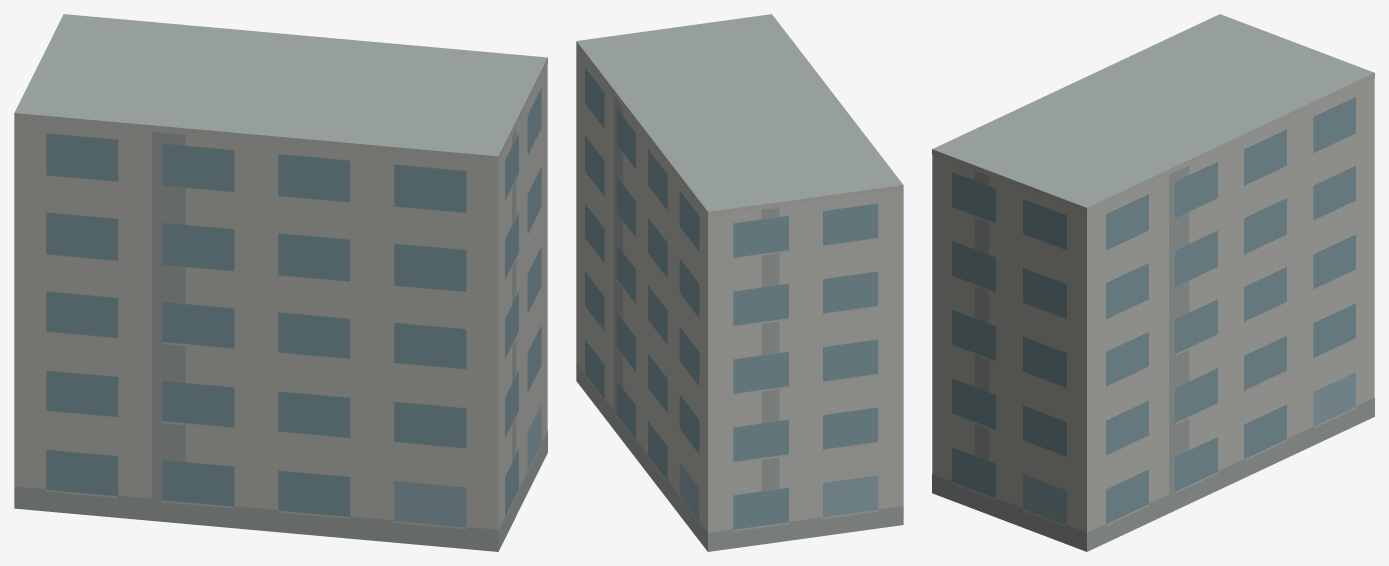
The model's file is survey-upis-32525793.glb.
3 renders of one model, left to right at view 1: azimuth 30°, elevation 25°; view 2: azimuth 150°, elevation 25°; view 3: azimuth 270°, elevation 25°, orthographic. The views are drawn at different scales.
Parts seen in each view (by area): view 1: survey-upis-32525793.tmp; view 2: survey-upis-32525793.tmp; view 3: survey-upis-32525793.tmp.
Boxes of the visible parts, bbox=[...] form: survey-upis-32525793.tmp: bbox=[14, 14, 547, 551]; survey-upis-32525793.tmp: bbox=[576, 14, 903, 551]; survey-upis-32525793.tmp: bbox=[932, 14, 1374, 551].
Size of the model in its own units: 18.24 by 15.08 by 17.59.
